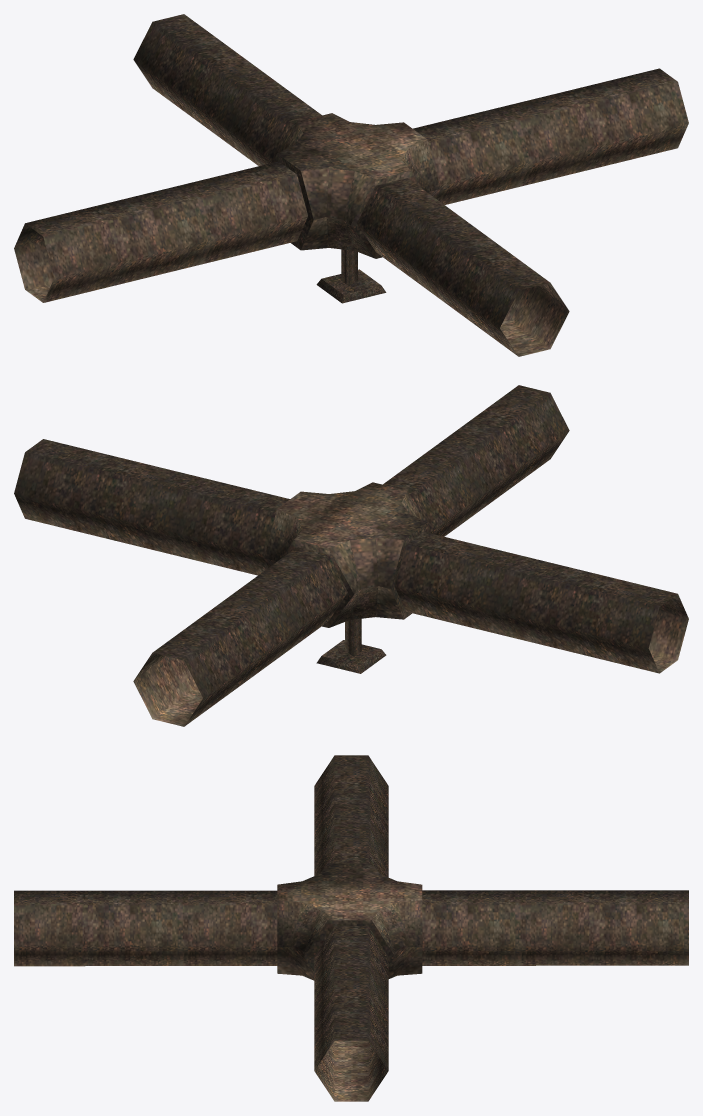
Rendered from pipes_ceiling_x_support.fbx.
3 views of the same model, one above another, from view 1: azimuth 30°, elevation 25°; view 2: azimuth 150°, elevation 25°; view 3: azimuth 270°, elevation 25° (orthographic). The views are drawn at different scales.
Visible parts, largest first — view 1: mesh_0; view 2: mesh_0; view 3: mesh_0.
Boxes of the visible parts, x1,y1,x2,y2 form: mesh_0: [14, 14, 688, 356]; mesh_0: [14, 385, 688, 726]; mesh_0: [14, 755, 688, 1101].
Bounding box in the file's own units: 200 × 43 × 200.
1 material, 1 textured.
